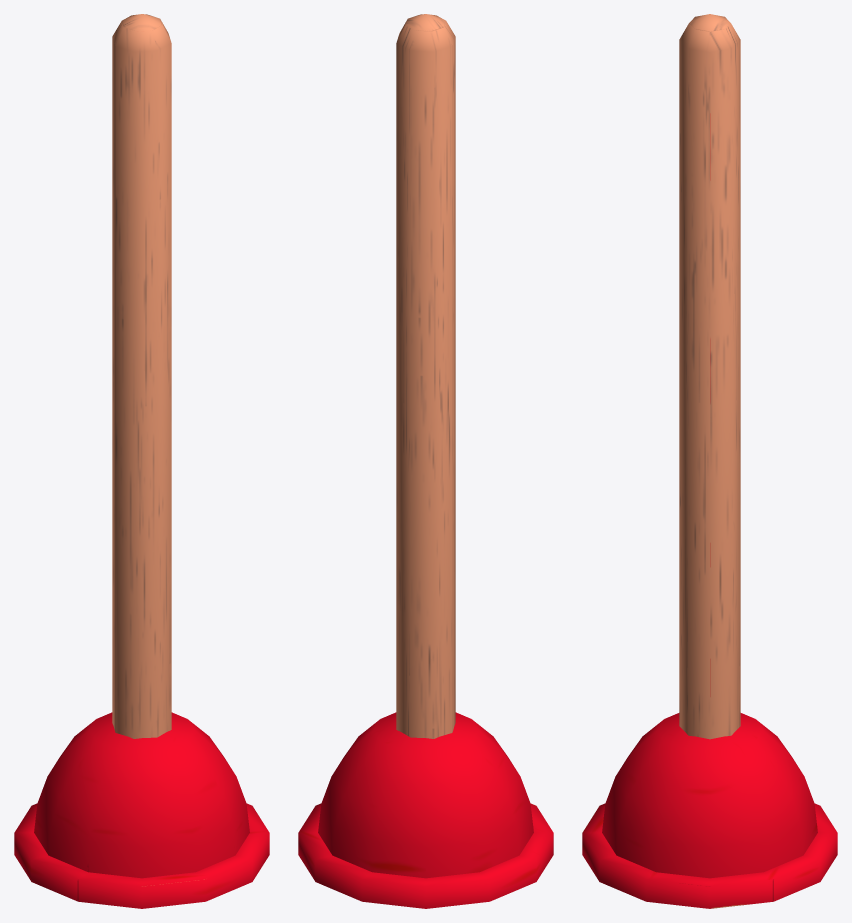
File: Mesh_PlungerWeapon.fbx
The picture shows the model from 3 angles, left to right: view 1: azimuth 30°, elevation 25°; view 2: azimuth 150°, elevation 25°; view 3: azimuth 270°, elevation 25°; orthographic projection.
Visible parts, largest first — view 1: PlungerWeapon; view 2: PlungerWeapon; view 3: PlungerWeapon.
Boxes of the visible parts, x1,y1,x2,y2 form: PlungerWeapon: [14, 14, 269, 908]; PlungerWeapon: [298, 14, 553, 908]; PlungerWeapon: [582, 14, 837, 908].
Bounding box in the file's own units: 138 × 500 × 138.
1 material, 1 textured.
